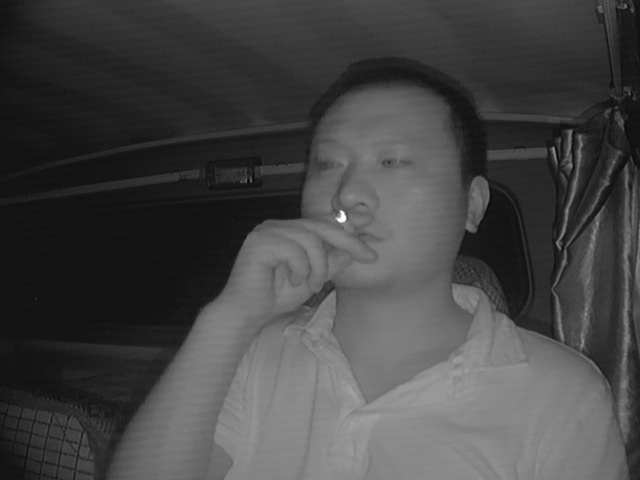hand: (224, 211, 378, 320)
